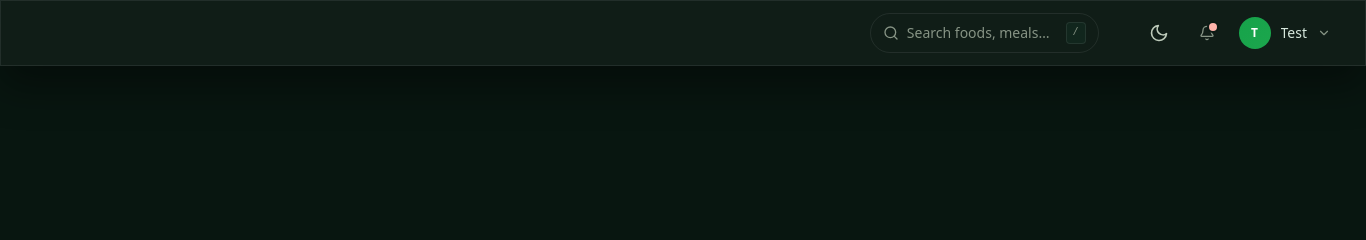
Scenario: AppHeader › shows user email after opening the user menu
Check: the text "test@example.com" is not shown
Click the button with aria-label "User menu" at [1288, 33], box [1234, 13, 1341, 53]
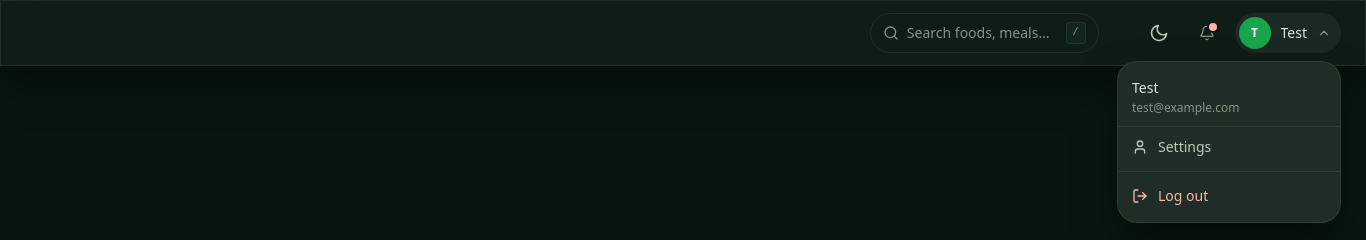
Check: the text "test@example.com" is shown, box [1132, 99, 1240, 116]
